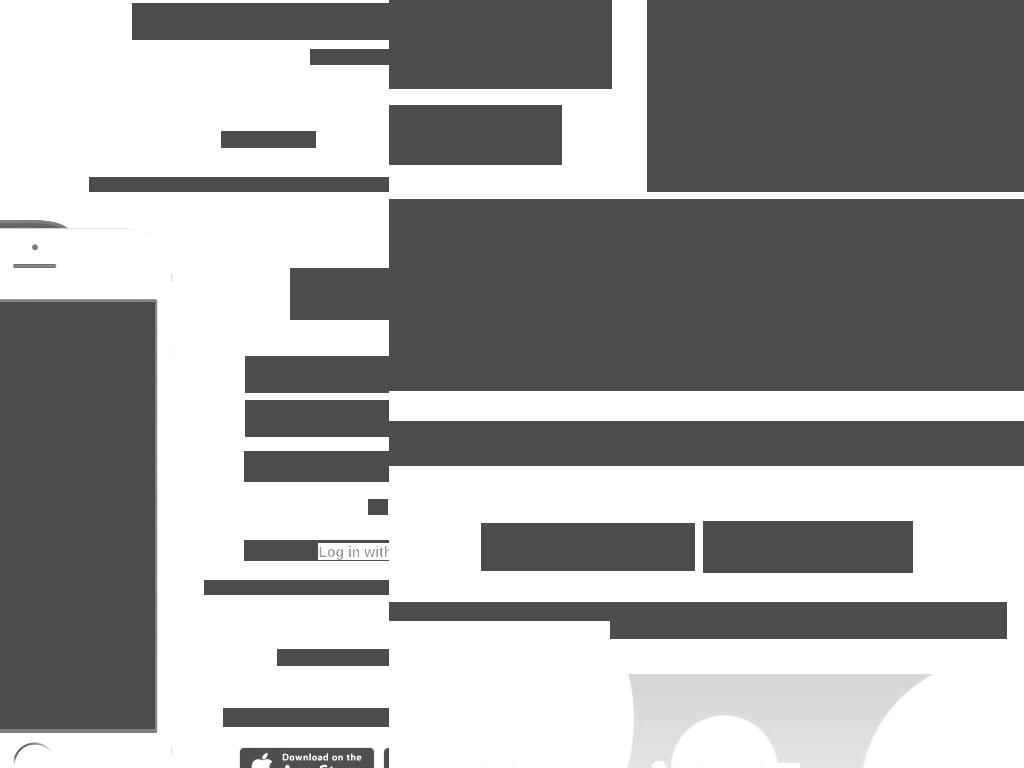button: (703, 521, 913, 573), (481, 523, 695, 571), (244, 451, 389, 482), (244, 540, 389, 561), (238, 746, 375, 768), (204, 580, 389, 595), (310, 49, 389, 65)
field: (132, 3, 389, 40), (245, 356, 389, 393), (245, 400, 389, 437)
heading: (389, 199, 1024, 391), (389, 421, 1024, 466), (389, 0, 612, 89), (475, 739, 919, 768), (290, 268, 389, 320)
image: (647, 0, 1024, 192), (0, 302, 155, 729), (238, 746, 375, 768), (294, 543, 311, 560)
link: (610, 602, 1007, 639), (221, 131, 316, 148)
text: (389, 105, 562, 165), (389, 602, 895, 621), (253, 356, 389, 393), (253, 400, 389, 437), (89, 177, 389, 192), (223, 708, 389, 727), (638, 620, 784, 639), (529, 536, 647, 558), (254, 457, 389, 476), (753, 536, 863, 558), (277, 649, 389, 666), (318, 543, 389, 560), (368, 499, 388, 515)
